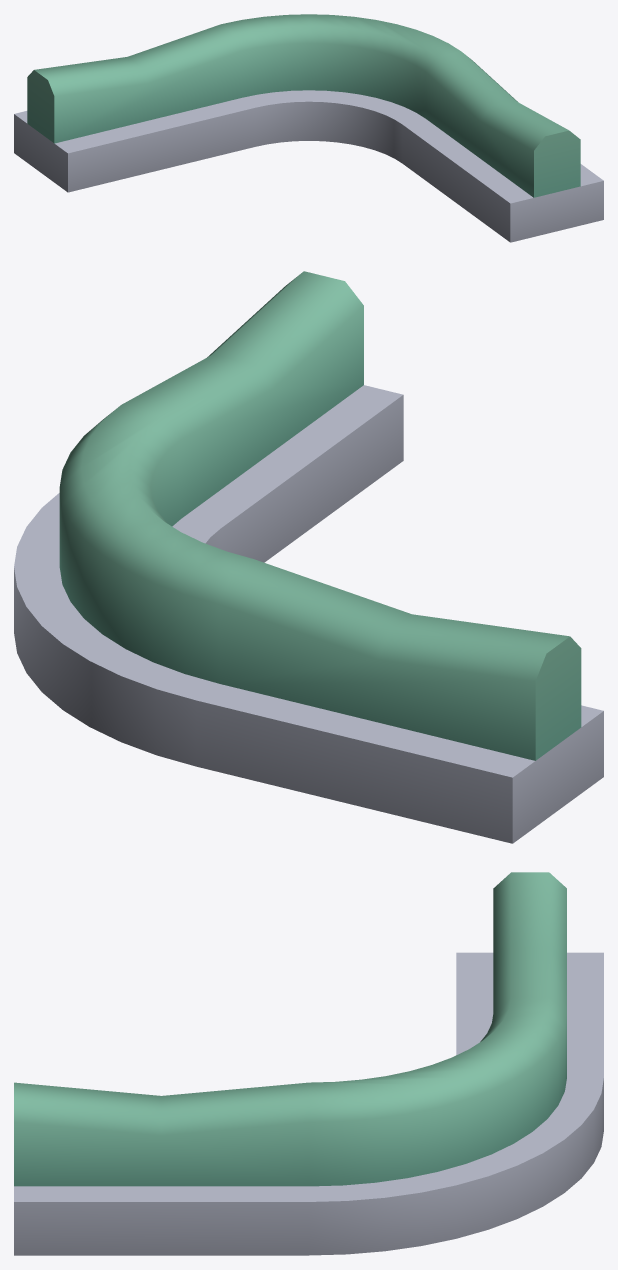
File: hedge-curved.glb
The picture shows the model from 3 angles, top to bottom: view 1: azimuth 30°, elevation 25°; view 2: azimuth 150°, elevation 25°; view 3: azimuth 270°, elevation 25°; orthographic projection. The views are drawn at different scales.
Parts seen in each view (by area): view 1: hedge-curved; view 2: hedge-curved; view 3: hedge-curved.
Boxes of the visible parts, left/top/right/bottom form: hedge-curved: left=14, top=14, right=603, bottom=242; hedge-curved: left=14, top=271, right=603, bottom=843; hedge-curved: left=14, top=872, right=603, bottom=1255.
Size of the model in its own units: 1 by 0.25 by 1.
